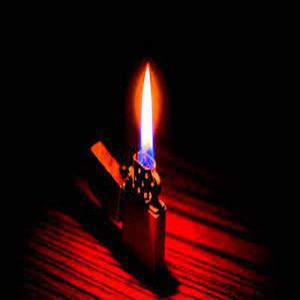fire: (136, 58, 162, 160)
